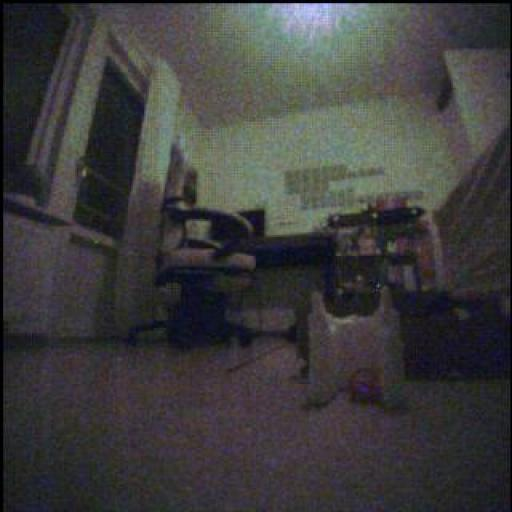basket: (350, 367, 382, 406)
